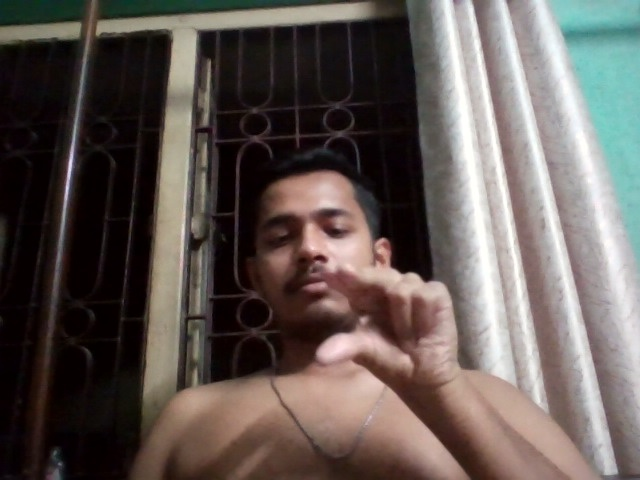No: (309, 244, 496, 409)
